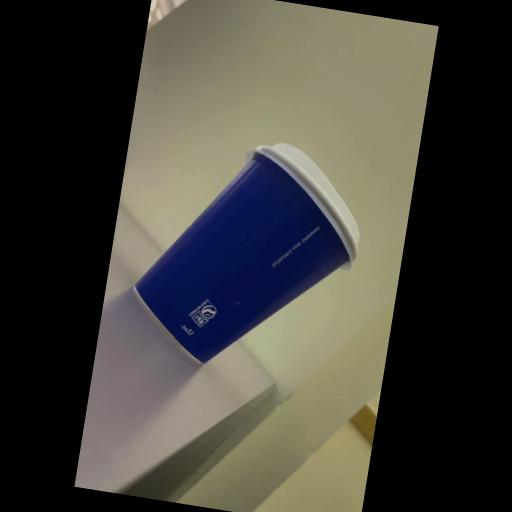lp_paper_cup: (124, 125, 371, 380)
